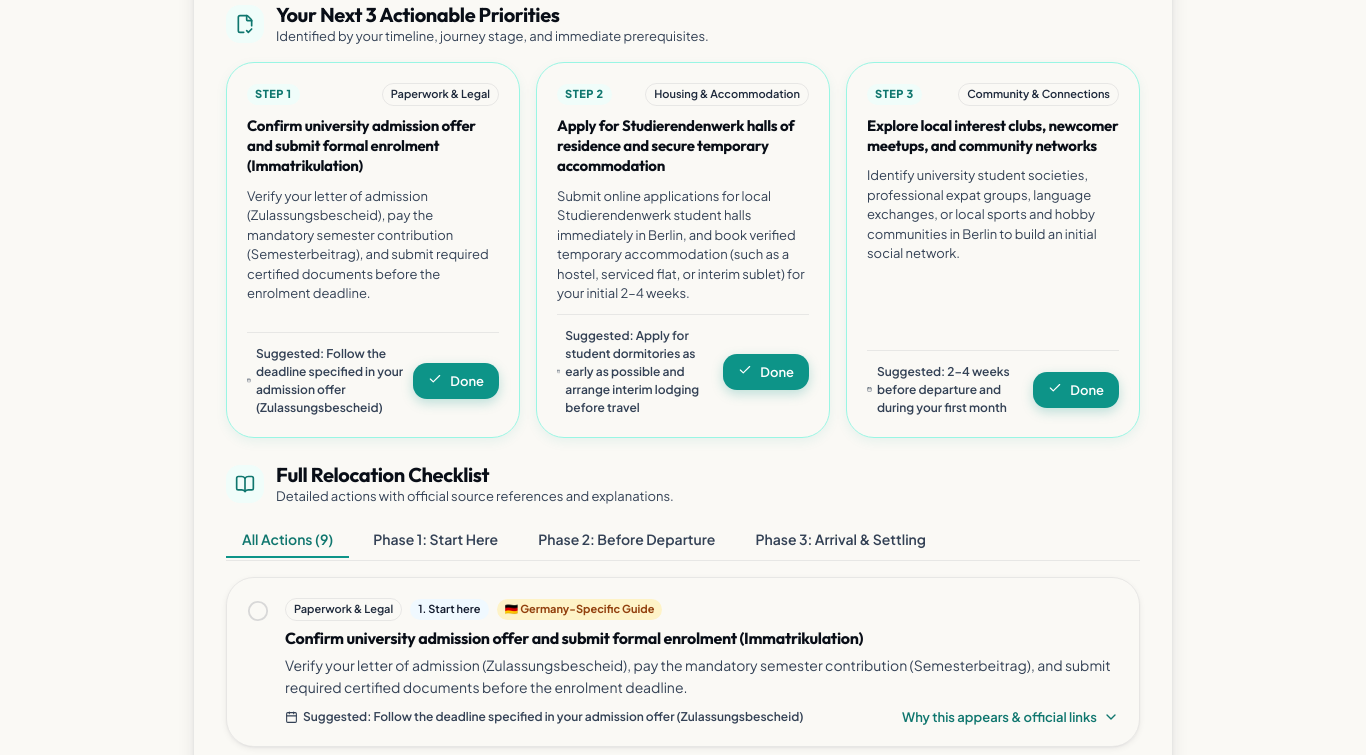
Task 3.2: Close Remaining Plan-Persistence Gaps › 1. Destination Transitions & Preventing Completion Resurrection › prevents completion resurrection on: Germany → undecided → Canada → Germany
The width and height of the screenshot is (1366, 755).
(page scrolled)
Click the 2nd button "Done": (766, 372) [723, 354, 809, 390]
(page scrolled)
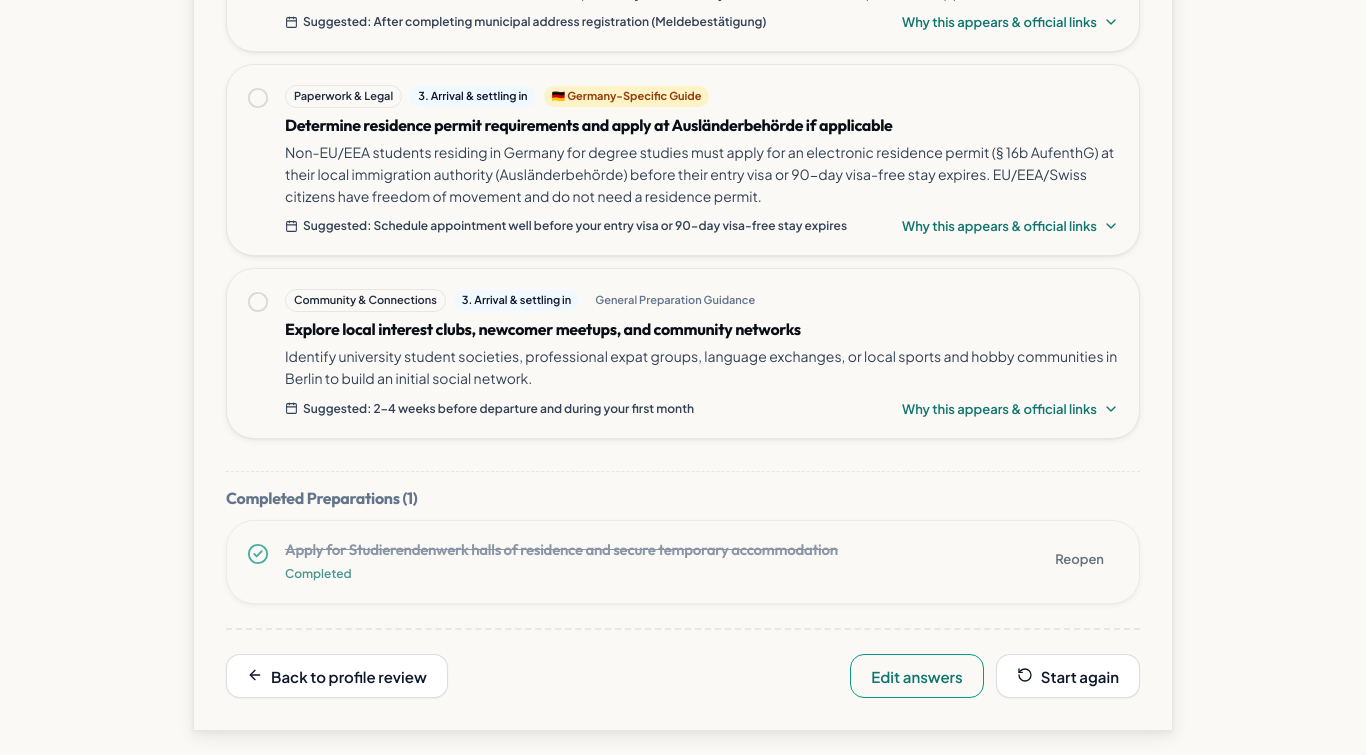
Expected: the button named "Reopen task \"Apply for Studierendenwerk halls of residence a" is shown, [247, 543, 269, 565]
